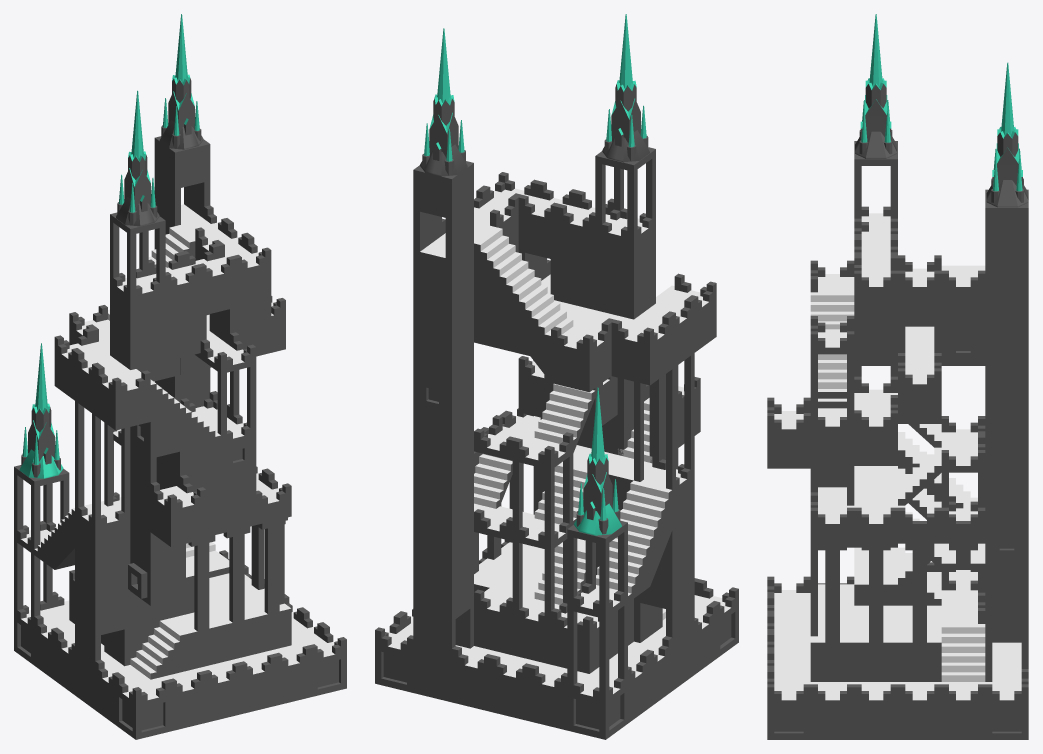
Rendered from tower-big.glb.
3 views of the same model, side by side, from view 1: azimuth 30°, elevation 25°; view 2: azimuth 150°, elevation 25°; view 3: azimuth 270°, elevation 25° (orthographic). The views are drawn at different scales.
Parts seen in each view (by area): view 1: level; view 2: level; view 3: level.
Boxes of the visible parts, x1,y1,x2,y2 form: level: [14, 14, 346, 739]; level: [375, 14, 738, 739]; level: [767, 14, 1028, 739].
Size of what is drawn, in the model's own units: 6 by 16.44 by 6.
